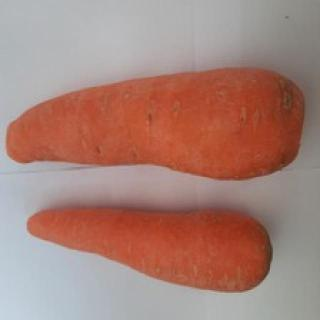carrot: (5, 68, 303, 180), (25, 205, 271, 291)
